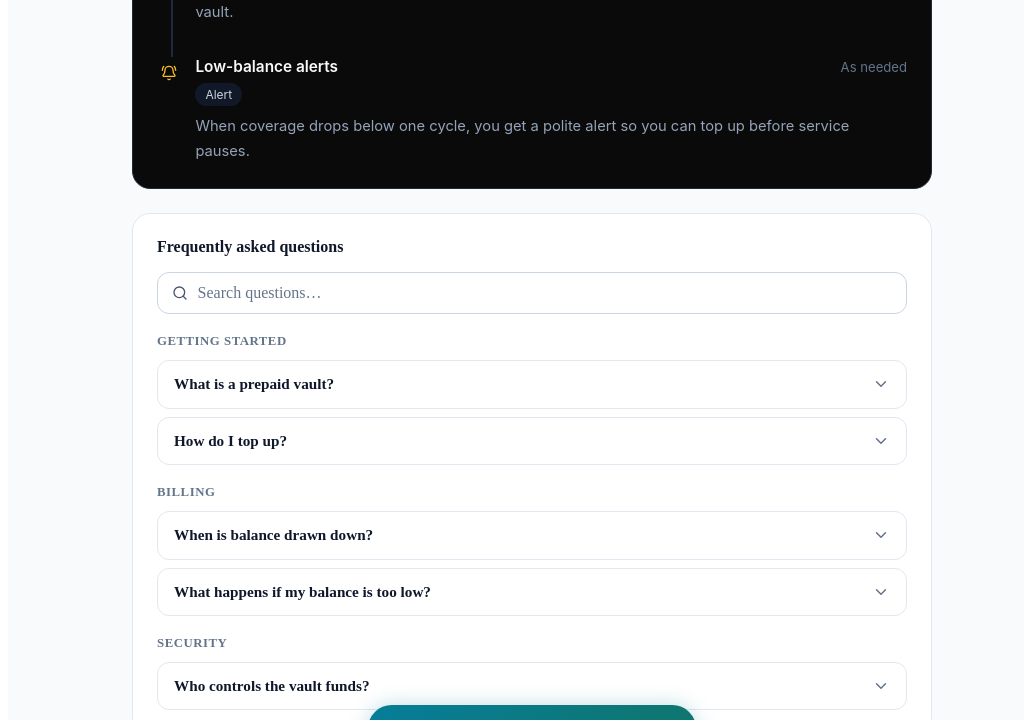
Test: AboutPrepaidBalances › renders a grouped FAQ accordion with aria-expanded
(page scrolled)
Click the button "What is a prepaid vault?" at (254, 384), box [158,361,906,408]
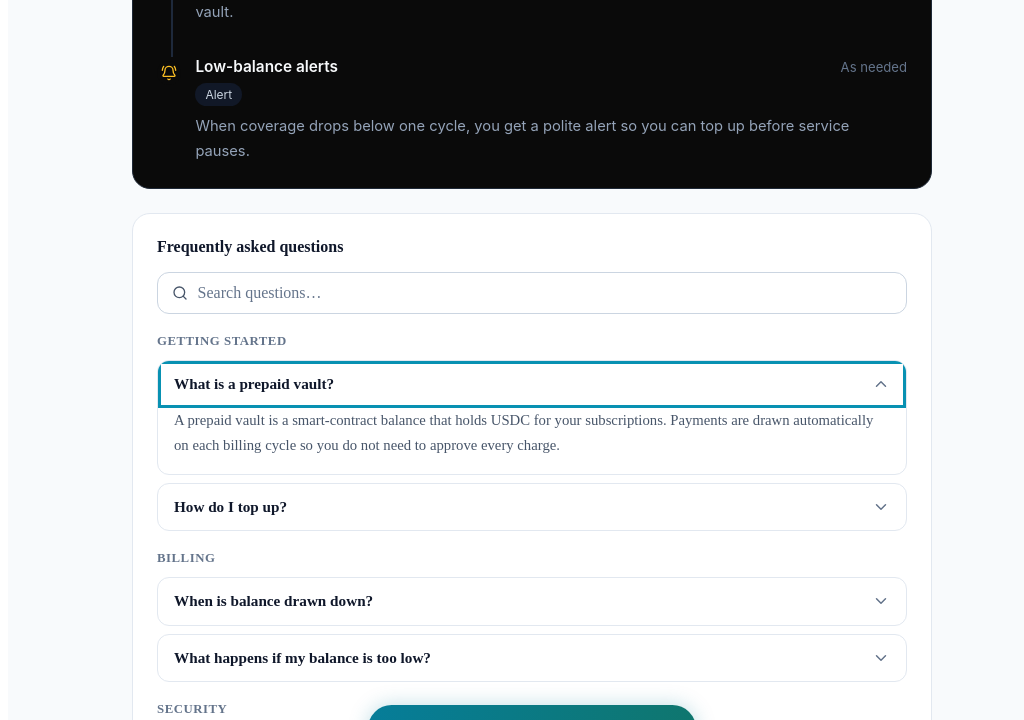
Result: the button "What is a prepaid vault?" is expanded at [158,361,906,408]
Result: the text "smart-contract balance that holds USDC" is shown at [174,412,873,452]
